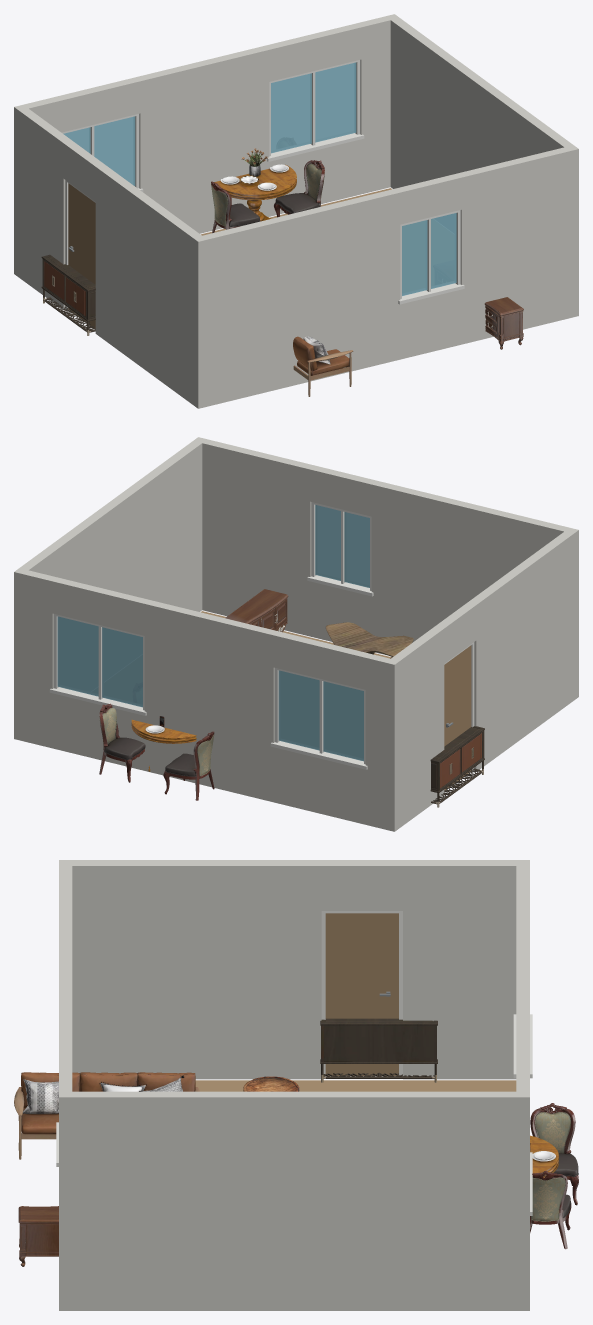
File: instructscene.glb
The picture shows the model from 3 angles, top to bottom: view 1: azimuth 30°, elevation 25°; view 2: azimuth 150°, elevation 25°; view 3: azimuth 270°, elevation 25°; orthographic projection. The views are drawn at different scales.
Visible parts, largest first — view 1: wall|scenesmith_043__R00|0, wall|scenesmith_043__R00|1, wall|scenesmith_043__R00|2, wall|scenesmith_043__R00|3, wall|scenesmith_043__R00|1 Window 0 | glazing, wall|scenesmith_043__R00|0 Window 0 | glazing, raw_model, raw_model.006, wall|scenesmith_043__R00|1 Window 0 | jamb, glass_001, wall|scenesmith_043__R00|2 Door 0 | wood leaf, raw_model.005 (+2 smaller); view 2: wall|scenesmith_043__R00|1, wall|scenesmith_043__R00|0, wall|scenesmith_043__R00|2, wall|scenesmith_043__R00|3, wall|scenesmith_043__R00|1 Window 0 | glazing, wall|scenesmith_043__R00|1 Window 0 | jamb, wall|scenesmith_043__R00|0 Window 0 | glazing, raw_model, raw_model.006, wall|scenesmith_043__R00|2 Door 0 | wood leaf, solid, raw_model.002 (+2 smaller); view 3: wall|scenesmith_043__R00|3, wall|scenesmith_043__R00|2, wall|scenesmith_043__R00|2 Door 0 | wood leaf, wall|scenesmith_043__R00|1, raw_model.006, raw_model.005, raw_model, wall|scenesmith_043__R00|0, floor, raw_model.002, wall|scenesmith_043__R00|2 Door 0 | jamb, glass_001 (+2 smaller).
Part boxes in pixels (box(x1,y1,x2,y2)): wall|scenesmith_043__R00|0: box(202, 146, 577, 406); wall|scenesmith_043__R00|1: box(14, 14, 399, 277); wall|scenesmith_043__R00|2: box(14, 105, 207, 408); wall|scenesmith_043__R00|3: box(390, 18, 578, 317); wall|scenesmith_043__R00|1 Window 0 | glazing: box(63, 62, 356, 186); wall|scenesmith_043__R00|0 Window 0 | glazing: box(402, 213, 456, 295); raw_model: box(211, 160, 324, 233); raw_model.006: box(41, 254, 95, 335); wall|scenesmith_043__R00|1 Window 0 | jamb: box(62, 60, 364, 192); glass_001: box(214, 148, 296, 221); wall|scenesmith_043__R00|2 Door 0 | wood leaf: box(68, 183, 95, 328); raw_model.005: box(293, 336, 353, 396); wall|scenesmith_043__R00|1: box(14, 568, 399, 831); wall|scenesmith_043__R00|0: box(194, 437, 569, 655); wall|scenesmith_043__R00|2: box(386, 528, 578, 831); wall|scenesmith_043__R00|3: box(20, 437, 206, 611); wall|scenesmith_043__R00|1 Window 0 | glazing: box(57, 616, 363, 761); wall|scenesmith_043__R00|1 Window 0 | jamb: box(49, 614, 367, 769); wall|scenesmith_043__R00|0 Window 0 | glazing: box(315, 505, 369, 587); raw_model: box(99, 703, 214, 800); raw_model.006: box(430, 726, 484, 807); wall|scenesmith_043__R00|2 Door 0 | wood leaf: box(444, 645, 471, 790); solid: box(325, 622, 413, 658); raw_model.002: box(225, 589, 288, 632); wall|scenesmith_043__R00|3: box(59, 1091, 529, 1310); wall|scenesmith_043__R00|2: box(59, 860, 529, 1079); wall|scenesmith_043__R00|2 Door 0 | wood leaf: box(325, 913, 398, 1075); wall|scenesmith_043__R00|1: box(516, 866, 529, 1310); raw_model.006: box(320, 1018, 437, 1082); raw_model.005: box(14, 1072, 199, 1159); raw_model: box(530, 1103, 578, 1249); wall|scenesmith_043__R00|0: box(59, 866, 72, 1097); floor: box(195, 1080, 516, 1091); raw_model.002: box(18, 1206, 58, 1266); wall|scenesmith_043__R00|2 Door 0 | jamb: box(321, 911, 402, 1076); glass_001: box(530, 1135, 558, 1177).
Size of the model in its own units: 6.34 by 2.61 by 6.24.
Materials: 13 (7 with a texture image).
